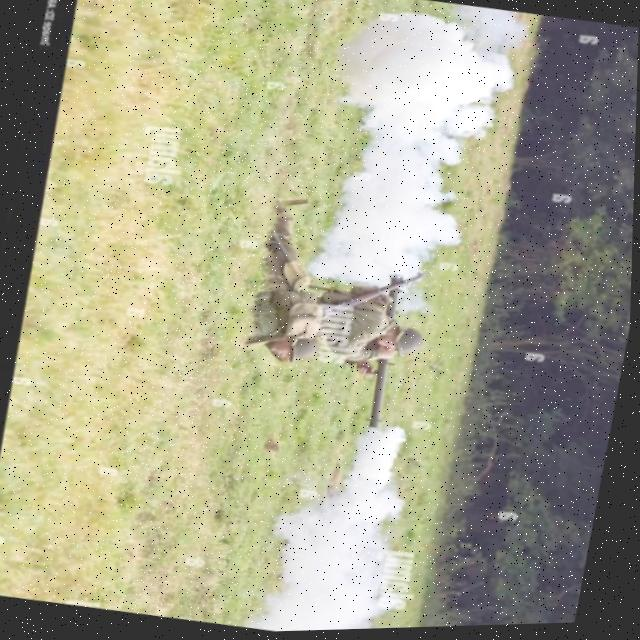rocket: (357, 274, 424, 432)
